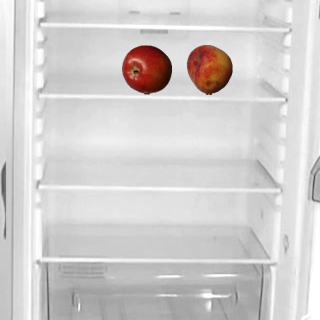Apple Braeburn: (121, 44, 171, 94)
Peach: (184, 44, 234, 94)
